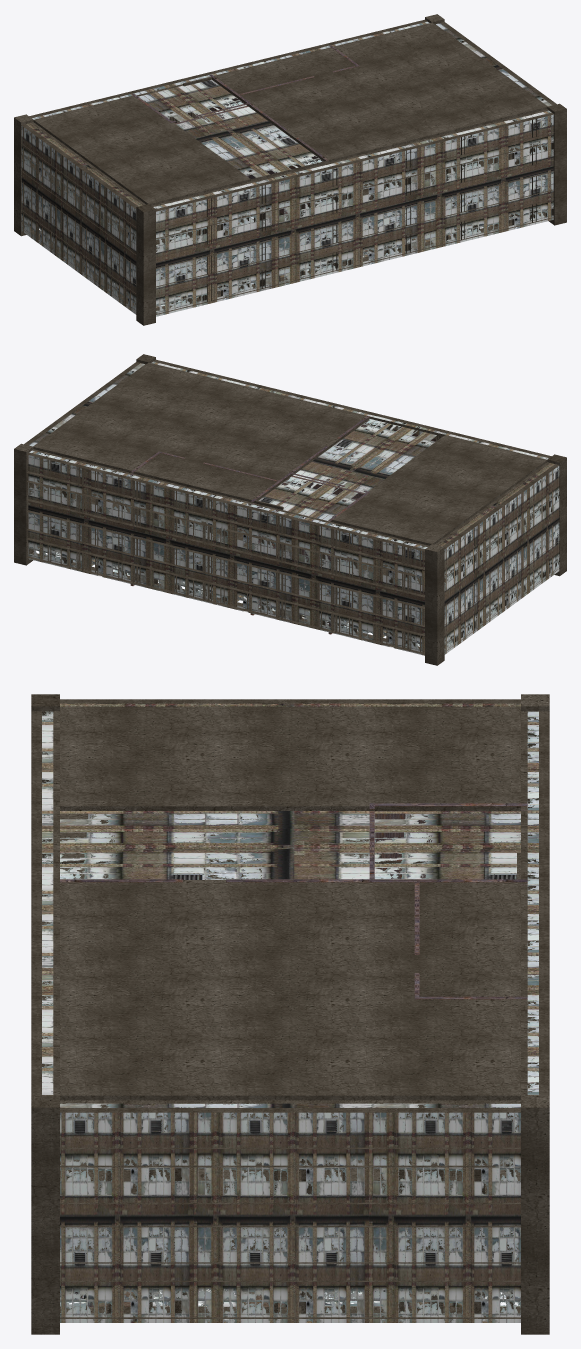
The model's file is BagSS08mid_500.fbx.
3 views of the same model, one above another, from view 1: azimuth 30°, elevation 25°; view 2: azimuth 150°, elevation 25°; view 3: azimuth 270°, elevation 25° (orthographic). The views are drawn at different scales.
Parts seen in each view (by area): view 1: midBox300, midCrete300, midWalls300; view 2: midCrete300, midBox300, midWalls300; view 3: midCrete300, midBox300, midWalls300.
Boxes of the visible parts, x1=… form: midBox300: x1=21, y1=21, x2=553, y2=316; midCrete300: x1=14, y1=14, x2=566, y2=325; midWalls300: x1=131, y1=45, x2=359, y2=266; midCrete300: x1=14, y1=354, x2=566, y2=665; midBox300: x1=28, y1=361, x2=559, y2=655; midWalls300: x1=130, y1=415, x2=369, y2=634; midCrete300: x1=31, y1=694, x2=549, y2=1334; midBox300: x1=42, y1=703, x2=538, y2=1322; midWalls300: x1=60, y1=803, x2=527, y2=1003.
Size of the model in its own units: 60.9 by 15.61 by 32.27.
